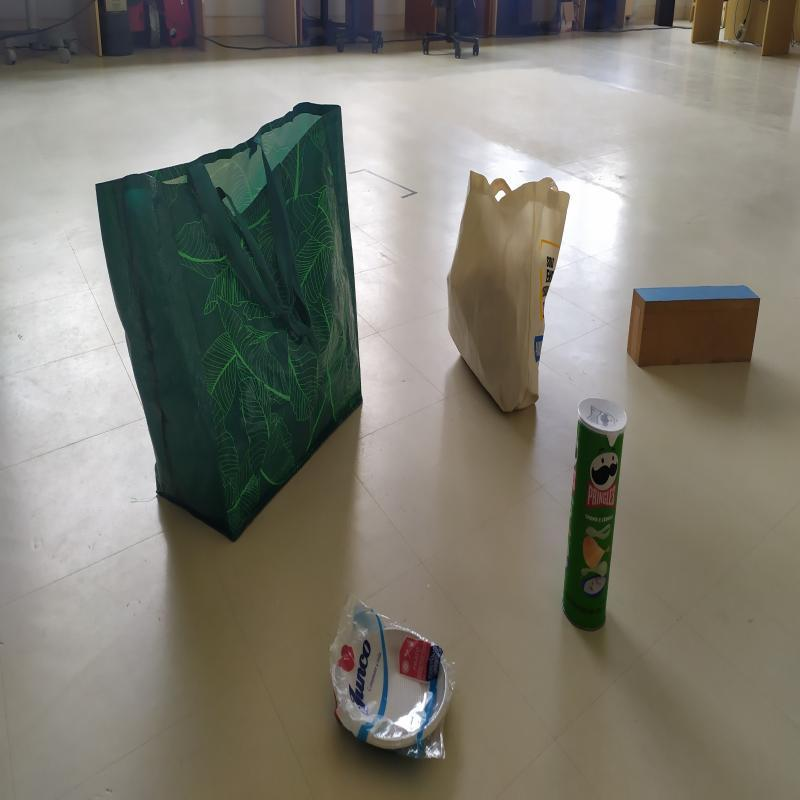Bag: (95, 96, 357, 538), (445, 165, 572, 414)
Plate: (332, 605, 448, 756)
Pringles: (562, 392, 628, 628)
